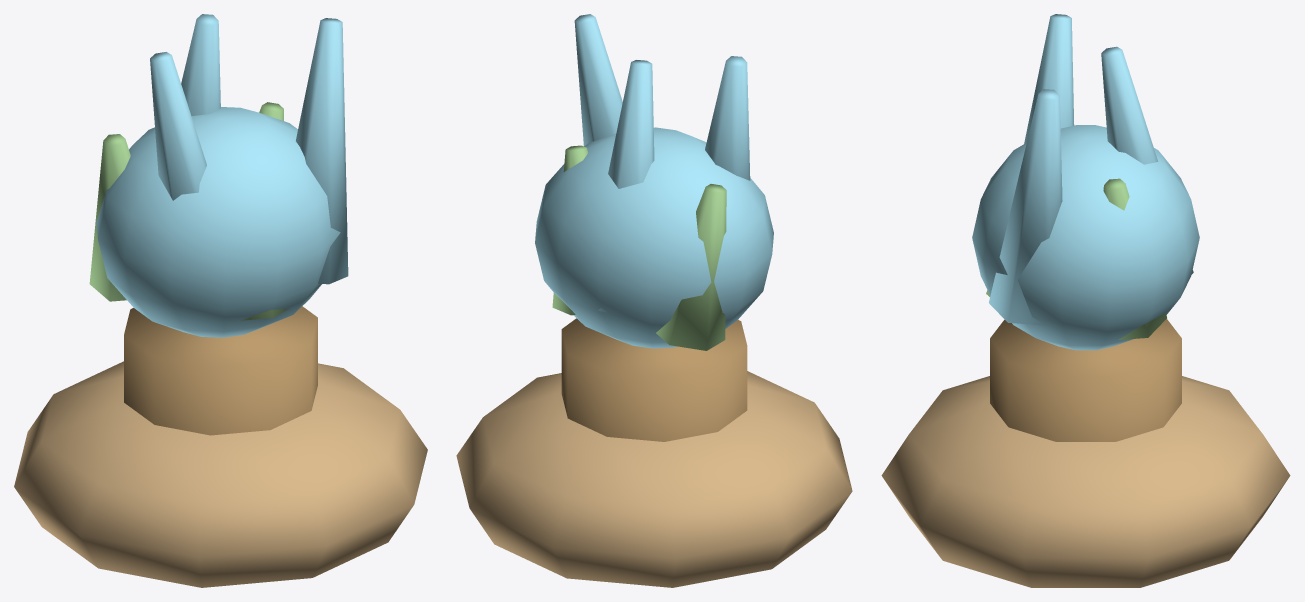
Rendered from frost_ivy_grown.fbx.
3 views of the same model, side by side, from view 1: azimuth 30°, elevation 25°; view 2: azimuth 150°, elevation 25°; view 3: azimuth 270°, elevation 25° (orthographic). The views are drawn at different scales.
Parts seen in each view (by area): view 1: PLQ_frost_ivy_grown; view 2: PLQ_frost_ivy_grown; view 3: PLQ_frost_ivy_grown.
Boxes of the visible parts, x1=… form: PLQ_frost_ivy_grown: x1=14, y1=14, x2=427, y2=587; PLQ_frost_ivy_grown: x1=456, y1=14, x2=852, y2=587; PLQ_frost_ivy_grown: x1=881, y1=14, x2=1290, y2=587.
Bounding box in the file's own units: 65.91 × 95 × 69.3.
